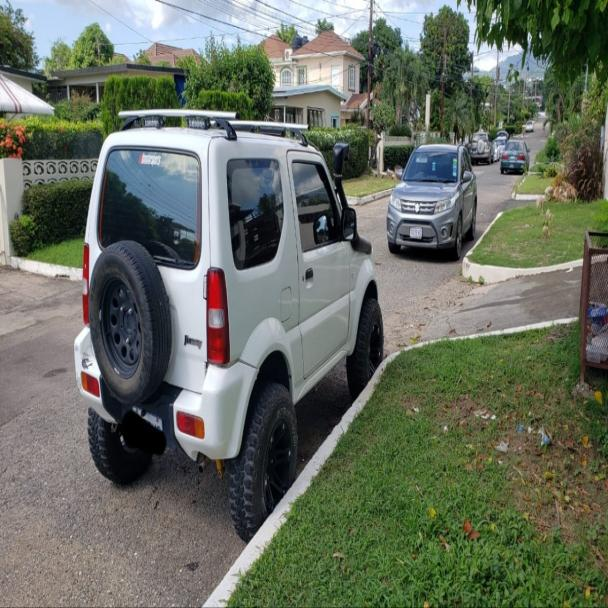Mobil: (74, 129, 385, 529), (389, 141, 479, 254)
